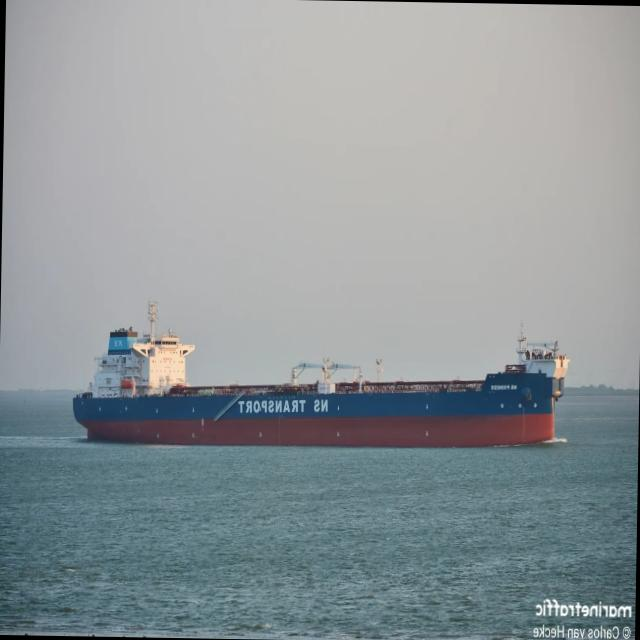Tanker: (73, 303, 568, 446)
